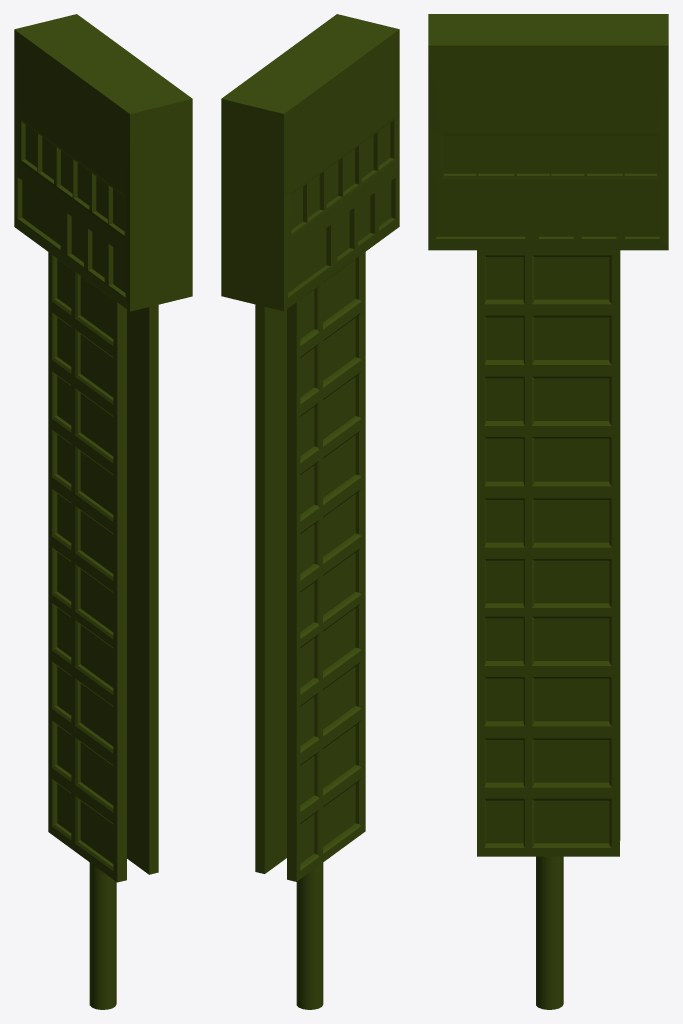
File: T1_ScoreBoard_M.fbx
The picture shows the model from 3 angles, left to right: view 1: azimuth 30°, elevation 25°; view 2: azimuth 150°, elevation 25°; view 3: azimuth 270°, elevation 25°; orthographic projection. The views are drawn at different scales.
Visible parts, largest first — view 1: T1_ScoreBoard, T1_Score; view 2: T1_ScoreBoard, T1_Score; view 3: T1_ScoreBoard, T1_Score.
Part boxes in pixels (x1,y1,x2,y2): T1_ScoreBoard: (14,14,192,1009); T1_Score: (26,188,71,823); T1_ScoreBoard: (221,14,399,1009); T1_Score: (289,237,322,855); T1_ScoreBoard: (428,14,668,1009); T1_Score: (447,202,519,834).
Size of the model in its own units: 1.06 by 15.02 by 3.36.
